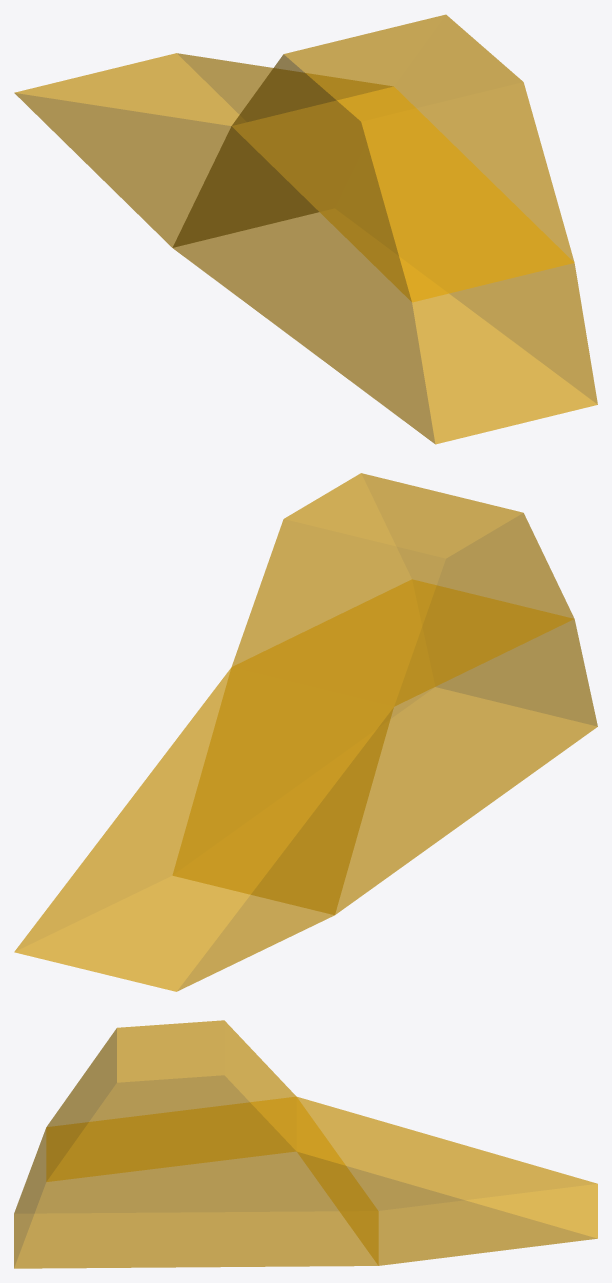
The model's file is SM_Veh_Ship_S_Ram_03_Collision.fbx.
3 views of the same model, one above another, from view 1: azimuth 30°, elevation 25°; view 2: azimuth 150°, elevation 25°; view 3: azimuth 270°, elevation 25° (orthographic). The views are drawn at different scales.
Parts seen in each view (by area): view 1: SM_Veh_Ship_S_Ram_03_Collision; view 2: SM_Veh_Ship_S_Ram_03_Collision; view 3: SM_Veh_Ship_S_Ram_03_Collision.
Part boxes in pixels (bbox=[...]): SM_Veh_Ship_S_Ram_03_Collision: bbox=[14, 14, 597, 444]; SM_Veh_Ship_S_Ram_03_Collision: bbox=[14, 473, 597, 991]; SM_Veh_Ship_S_Ram_03_Collision: bbox=[14, 1020, 597, 1268].
Bounding box in the file's own units: 146 × 239 × 655.
